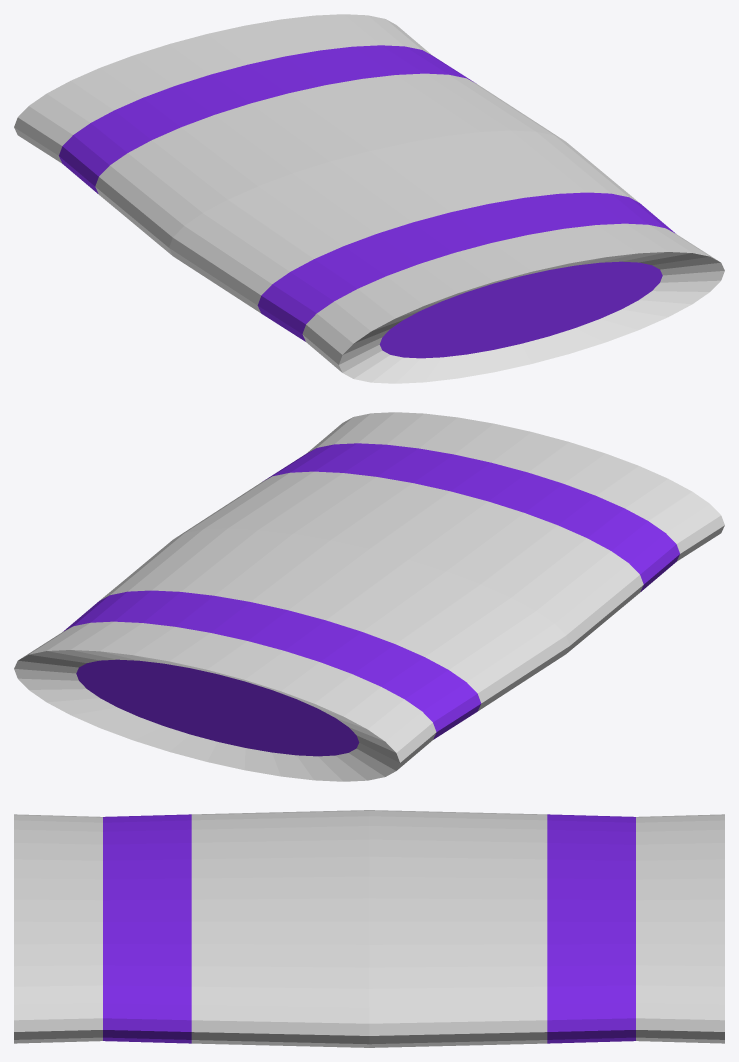
The model's file is pillow.fbx.
3 renders of one model, top to bottom at view 1: azimuth 30°, elevation 25°; view 2: azimuth 150°, elevation 25°; view 3: azimuth 270°, elevation 25°, orthographic. The views are drawn at different scales.
Visible parts, largest first — view 1: Cylinder; view 2: Cylinder; view 3: Cylinder.
Boxes of the visible parts, box(x1,y1,x2,y2) form: Cylinder: box(14, 14, 724, 383); Cylinder: box(14, 412, 724, 781); Cylinder: box(14, 810, 724, 1047).
Bounding box in the file's own units: 143 × 32.55 × 200.
